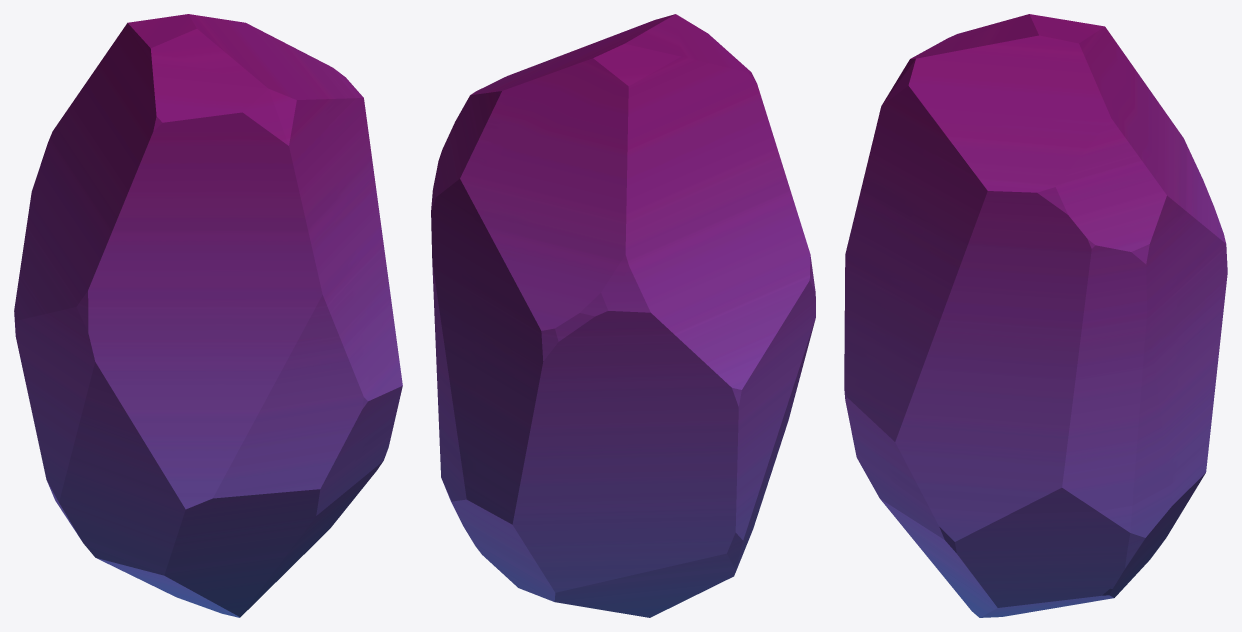
Rendered from rocatopacio_07.fbx.
3 renders of one model, left to right at view 1: azimuth 30°, elevation 25°; view 2: azimuth 150°, elevation 25°; view 3: azimuth 270°, elevation 25°, orthographic.
Parts seen in each view (by area): view 1: cueva04.001; view 2: cueva04.001; view 3: cueva04.001.
Part boxes in pixels (x1,y1,x2,y2): cueva04.001: (14, 14, 402, 617); cueva04.001: (431, 14, 815, 617); cueva04.001: (844, 14, 1227, 617).
Size of the model in its own units: 511 by 898 by 540.
1 material, 1 textured.
